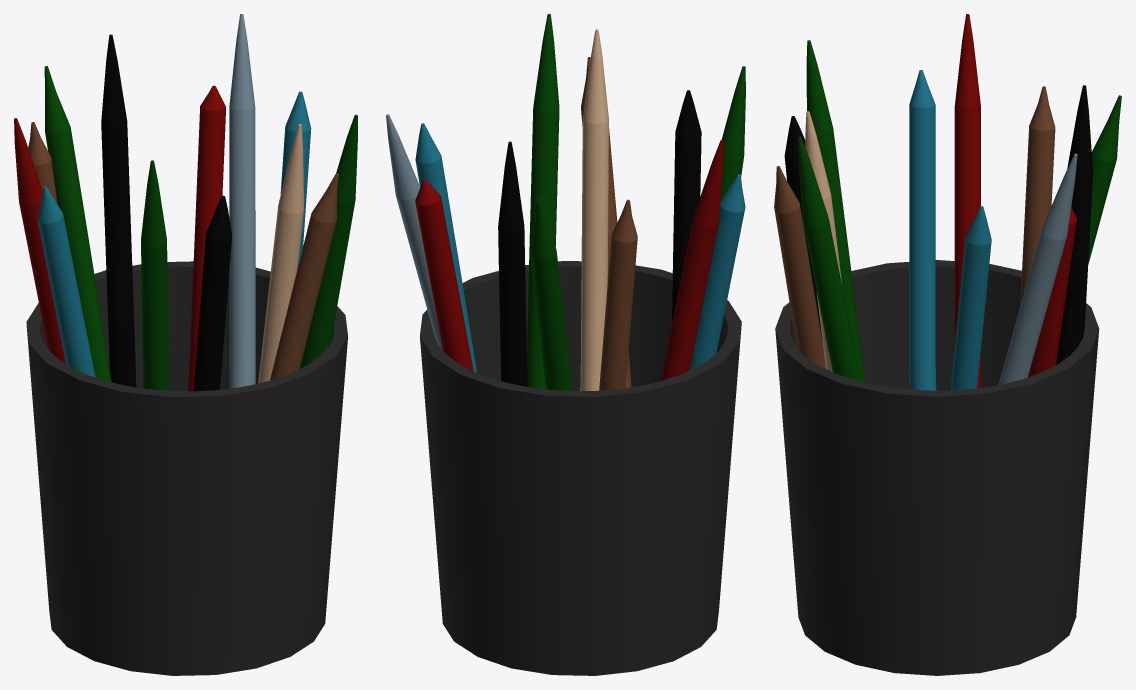
Rendered from PotCrayon_1.fbx.
3 renders of one model, left to right at view 1: azimuth 30°, elevation 25°; view 2: azimuth 150°, elevation 25°; view 3: azimuth 270°, elevation 25°, orthographic.
Visible parts, largest first — view 1: pPipe106, pCylinder207, pCylinder205, pCylinder230, pCylinder229, pCylinder227, pCylinder232, pCylinder214, pCylinder203, pCylinder231, pCylinder197, pCylinder235 (+2 smaller); view 2: pPipe106, pCylinder227, pCylinder197, pCylinder205, pCylinder235, pCylinder214, pCylinder204, pCylinder230, pCylinder231, pCylinder203, pCylinder207, pCylinder240 (+2 smaller); view 3: pPipe106, pCylinder231, pCylinder197, pCylinder235, pCylinder207, pCylinder205, pCylinder232, pCylinder240, pCylinder229, pCylinder204, pCylinder214, pCylinder230 (+2 smaller).
Part boxes in pixels (x1=…): pPipe106: x1=26, y1=261, x2=347, y2=675; pCylinder207: x1=229, y1=14, x2=255, y2=388; pCylinder205: x1=101, y1=34, x2=136, y2=387; pCylinder230: x1=44, y1=66, x2=111, y2=382; pCylinder229: x1=141, y1=160, x2=169, y2=390; pCylinder227: x1=258, y1=124, x2=303, y2=383; pCylinder232: x1=270, y1=173, x2=338, y2=380; pCylinder214: x1=188, y1=85, x2=225, y2=391; pCylinder203: x1=193, y1=195, x2=231, y2=391; pCylinder231: x1=37, y1=186, x2=95, y2=377; pCylinder197: x1=300, y1=114, x2=357, y2=368; pCylinder235: x1=14, y1=118, x2=65, y2=363; pPipe106: x1=420, y1=261, x2=741, y2=675; pCylinder227: x1=580, y1=29, x2=608, y2=390; pCylinder197: x1=526, y1=14, x2=559, y2=389; pCylinder205: x1=498, y1=141, x2=527, y2=386; pCylinder235: x1=661, y1=140, x2=723, y2=380; pCylinder214: x1=415, y1=179, x2=473, y2=371; pCylinder204: x1=599, y1=199, x2=637, y2=390; pCylinder230: x1=530, y1=199, x2=572, y2=390; pCylinder231: x1=689, y1=174, x2=745, y2=370; pCylinder203: x1=672, y1=90, x2=701, y2=323; pCylinder207: x1=386, y1=114, x2=442, y2=349; pCylinder240: x1=415, y1=123, x2=477, y2=372; pPipe106: x1=775, y1=260, x2=1099, y2=675; pCylinder231: x1=909, y1=70, x2=936, y2=390; pCylinder197: x1=798, y1=137, x2=860, y2=381; pCylinder235: x1=954, y1=14, x2=981, y2=388; pCylinder207: x1=998, y1=153, x2=1077, y2=384; pCylinder205: x1=1056, y1=85, x2=1092, y2=364; pCylinder232: x1=774, y1=166, x2=825, y2=368; pCylinder240: x1=950, y1=206, x2=991, y2=390; pCylinder229: x1=806, y1=40, x2=865, y2=382; pCylinder204: x1=1020, y1=86, x2=1055, y2=305; pCylinder214: x1=1028, y1=207, x2=1076, y2=377; pCylinder230: x1=1056, y1=95, x2=1121, y2=364.
Size of the model in its own units: 7.61 by 12.8 by 7.61.
